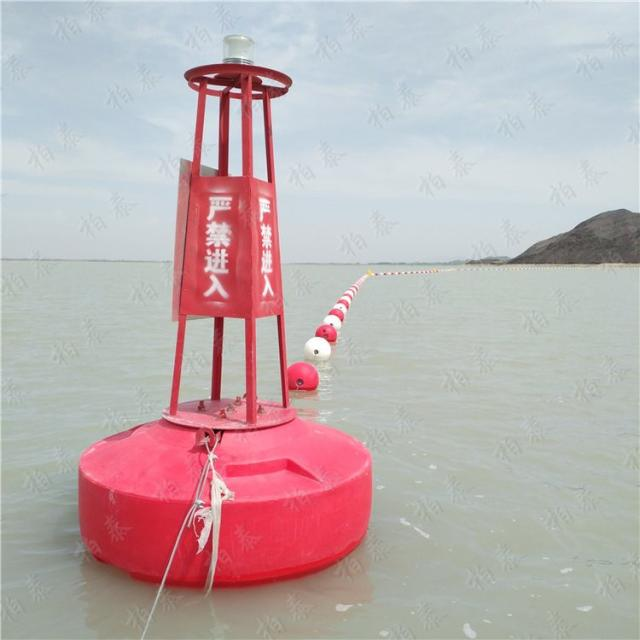buoy: (63, 32, 376, 576)
